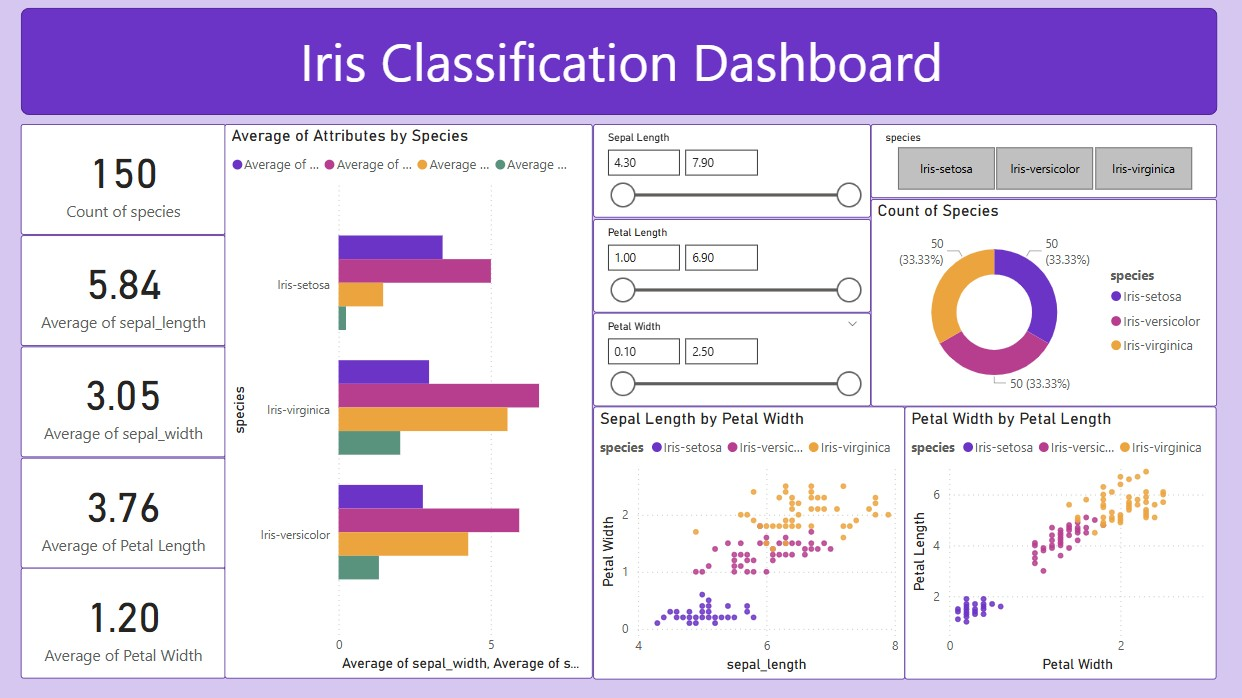

What the dashboard file says about the page in this screenshot:
{"tool":"powerbi","page":{"name":"Iris Classification Dashboard","canvas":[1280,720],"ordinal":0},"visuals":[{"type":"shape","box":[0,0,1280,720],"z":0},{"type":"scatterChart","title":"Sepal Length by Petal Width","fields":{"X":["Iris-Data.sepal_length"],"Series":["Iris-Data.species"],"Y":["Avg(Iris-Data.petal_width)"]},"box":[611.2,417.5,320,280],"z":1000},{"type":"donutChart","title":"Count of Species","fields":{"Y":["CountNonNull(Iris-Data.species)"],"Category":["Iris-Data.species"]},"box":[896.2,205,355,212.5],"z":2000},{"type":"slicer","fields":{"Values":["Iris-Data.species"]},"box":[896.2,128.8,355,76.2],"z":3000},{"type":"card","fields":{"Values":["CountNonNull(Iris-Data.species)"]},"box":[23.8,128.8,210,113.8],"z":4000},{"type":"card","fields":{"Values":["Avg(Iris-Data.sepal_length)"]},"box":[23.8,242.5,210,113.8],"z":5000},{"type":"card","fields":{"Values":["Avg(Iris-Data.sepal_width)"]},"box":[23.8,356.2,210,113.8],"z":6000},{"type":"card","fields":{"Values":["Avg(Iris-Data.petal_length)"]},"box":[23.8,470,210,113.8],"z":7000},{"type":"card","fields":{"Values":["Avg(Iris-Data.petal_width)"]},"box":[23.8,583.8,210,113.8],"z":8000},{"type":"scatterChart","title":"Petal Width by Petal Length","fields":{"X":["Sum(Iris-Data.petal_width)"],"Y":["Sum(Iris-Data.petal_length)"],"Series":["Iris-Data.species"]},"box":[931.2,417.5,320,280],"z":9000},{"type":"shape","box":[23.8,8.8,1227.5,110],"z":10000},{"type":"textbox","box":[16.2,21.2,1247.5,97.5],"z":11000},{"type":"clusteredBarChart","title":"Average of Attributes by Species","fields":{"Y":["Avg(Iris-Data.sepal_width)","Avg(Iris-Data.sepal_length)","Avg(Iris-Data.petal_length)","Avg(Iris-Data.petal_width)"],"Category":["Iris-Data.species"]},"box":[233.8,128.8,377.5,568.8],"z":12000},{"type":"slicer","fields":{"Values":["Iris-Data.petal_length"]},"box":[611.2,225,285,96.2],"z":13000},{"type":"slicer","fields":{"Values":["Iris-Data.petal_width"]},"box":[611.2,321.2,285,96.2],"z":14000},{"type":"slicer","fields":{"Values":["Iris-Data.sepal_length"]},"box":[611.2,128.8,285,96.2],"z":15000}]}

Visuals, with their boxes in screenshot pixels (x1, y1, x2, y2), scaled from the page's 1280x720 canvas onto the 1242x698 screenshot:
shape: BBox(0, 0, 1241, 697)
"Sepal Length by Petal Width" scatterChart: BBox(593, 405, 904, 676)
"Count of Species" donutChart: BBox(870, 199, 1214, 405)
slicer - Iris-Data.species: BBox(870, 125, 1214, 199)
card - CountNonNull(Iris-Data.species): BBox(23, 125, 227, 235)
card - Avg(Iris-Data.sepal_length): BBox(23, 235, 227, 345)
card - Avg(Iris-Data.sepal_width): BBox(23, 345, 227, 456)
card - Avg(Iris-Data.petal_length): BBox(23, 456, 227, 566)
card - Avg(Iris-Data.petal_width): BBox(23, 566, 227, 676)
"Petal Width by Petal Length" scatterChart: BBox(904, 405, 1214, 676)
shape: BBox(23, 9, 1214, 115)
textbox: BBox(16, 21, 1226, 115)
"Average of Attributes by Species" clusteredBarChart: BBox(227, 125, 593, 676)
slicer - Iris-Data.petal_length: BBox(593, 218, 870, 311)
slicer - Iris-Data.petal_width: BBox(593, 311, 870, 405)
slicer - Iris-Data.sepal_length: BBox(593, 125, 870, 218)
